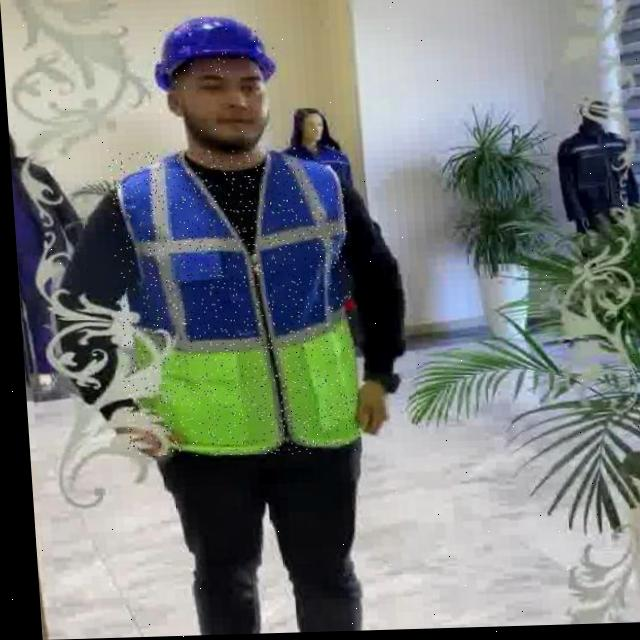No-Glove: (106, 407, 169, 461), (347, 380, 386, 437)
Safety-Vest: (111, 146, 360, 458)
